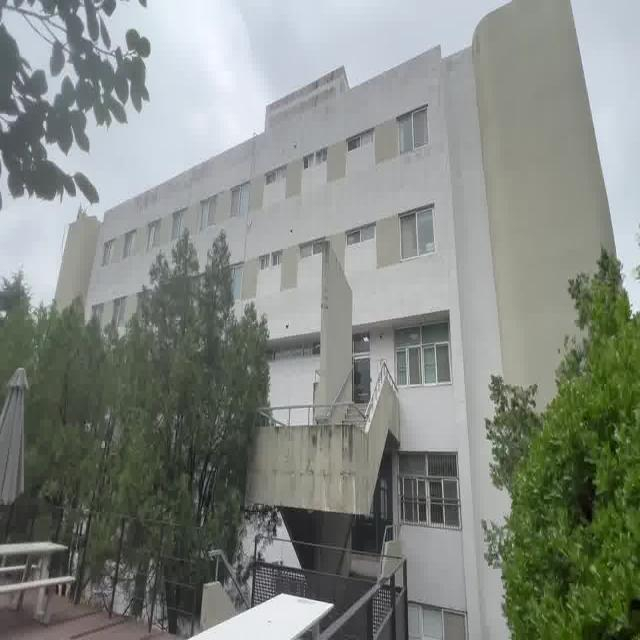building: (274, 78, 489, 546)
